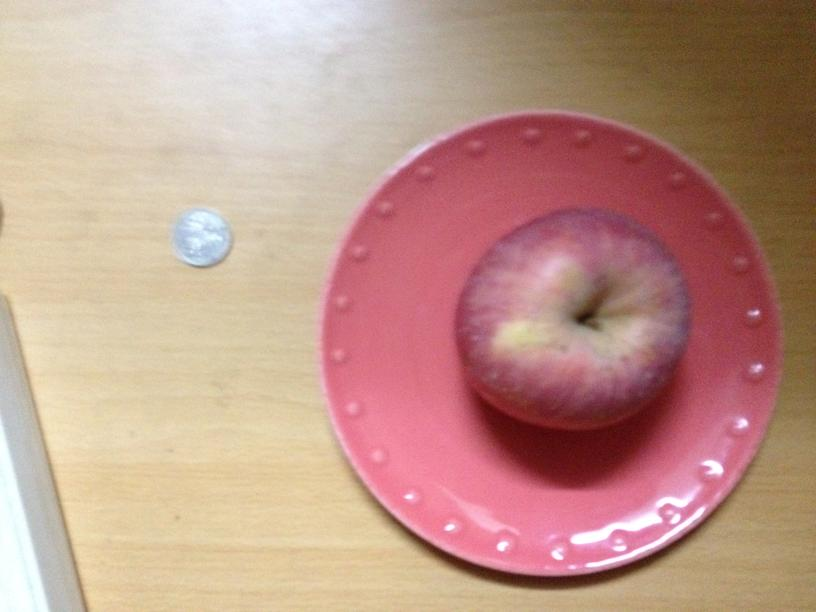apple: (452, 203, 693, 431)
coin: (171, 209, 232, 267)
